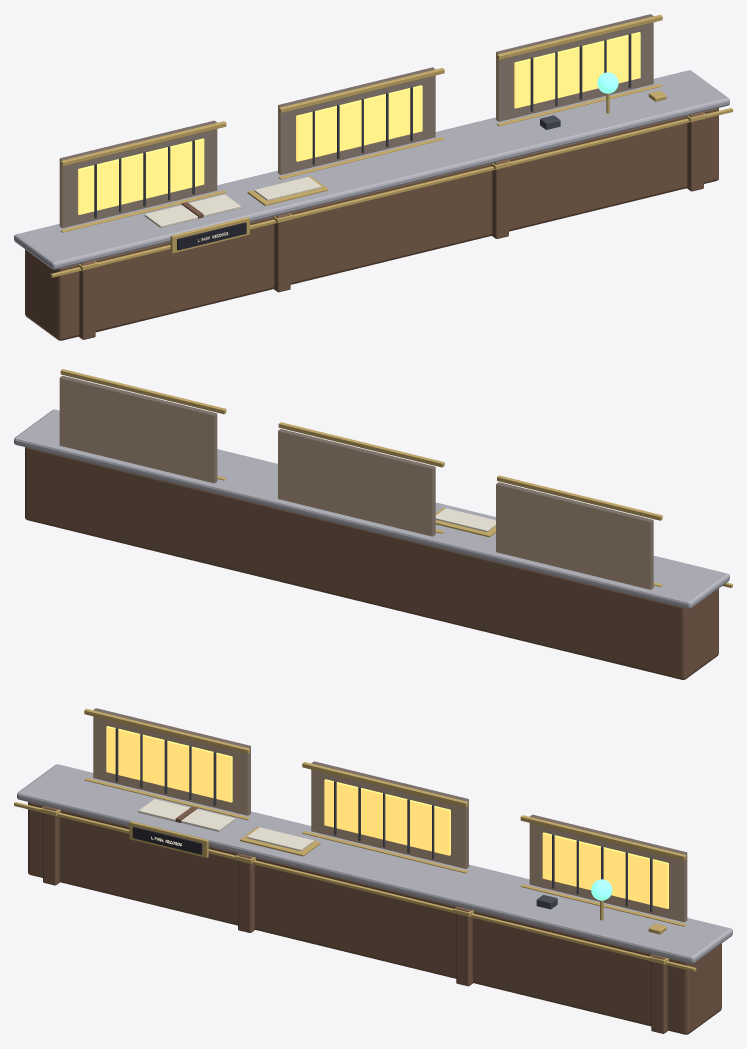
Rendered from teller-counter.glb.
The picture shows the model from 3 angles, top to bottom: view 1: azimuth 30°, elevation 25°; view 2: azimuth 150°, elevation 25°; view 3: azimuth 330°, elevation 25°; orthographic projection.
Visible parts, largest first — view 1: long dark oak teller counter body, thick marble counter slab, teller cage warm interior glow 1, teller cage warm interior glow 0, teller cage warm interior glow 2, teller cage smoked glass 0, teller cage smoked glass 1, teller cage smoked glass 2, brass toe rail across counter, carved oak counter pilaster 0, carved oak counter pilaster 1, carved oak counter pilaster 3 (+12 smaller); view 2: long dark oak teller counter body, thick marble counter slab, teller cage smoked glass 2, teller cage smoked glass 1, teller cage smoked glass 0, teller cage top rail 1, teller cage top rail 2, teller cage top rail 0, hallway log paper card; view 3: long dark oak teller counter body, thick marble counter slab, teller cage warm interior glow 0, teller cage warm interior glow 1, teller cage warm interior glow 2, teller cage smoked glass 0, teller cage smoked glass 1, teller cage smoked glass 2, brass toe rail across counter, carved oak counter pilaster 3, carved oak counter pilaster 2, carved oak counter pilaster 0 (+12 smaller).
Boxes of the visible parts, bbox=[...] form: long dark oak teller counter body: bbox=[25, 108, 718, 340]; thick marble counter slab: bbox=[14, 70, 729, 269]; teller cage warm interior glow 1: bbox=[296, 85, 422, 161]; teller cage warm interior glow 0: bbox=[78, 138, 204, 214]; teller cage warm interior glow 2: bbox=[514, 32, 640, 108]; teller cage smoked glass 0: bbox=[59, 120, 217, 228]; teller cage smoked glass 1: bbox=[278, 67, 435, 174]; teller cage smoked glass 2: bbox=[496, 14, 653, 121]; brass toe rail across counter: bbox=[50, 108, 732, 277]; carved oak counter pilaster 0: bbox=[78, 260, 95, 339]; carved oak counter pilaster 1: bbox=[274, 212, 290, 292]; carved oak counter pilaster 3: bbox=[687, 112, 703, 191]; long dark oak teller counter body: bbox=[25, 447, 718, 679]; thick marble counter slab: bbox=[14, 409, 729, 608]; teller cage smoked glass 2: bbox=[59, 375, 217, 483]; teller cage smoked glass 1: bbox=[278, 429, 435, 536]; teller cage smoked glass 0: bbox=[496, 482, 653, 589]; teller cage top rail 1: bbox=[278, 422, 444, 467]; teller cage top rail 2: bbox=[60, 369, 226, 414]; teller cage top rail 0: bbox=[497, 475, 662, 520]; hallway log paper card: bbox=[435, 508, 495, 532]; long dark oak teller counter body: bbox=[28, 802, 721, 1034]; thick marble counter slab: bbox=[17, 764, 732, 963]; teller cage warm interior glow 0: bbox=[106, 726, 232, 802]; teller cage warm interior glow 1: bbox=[324, 779, 450, 855]; teller cage warm interior glow 2: bbox=[542, 832, 668, 908]; teller cage smoked glass 0: bbox=[93, 708, 250, 815]; teller cage smoked glass 1: bbox=[311, 761, 468, 868]; teller cage smoked glass 2: bbox=[529, 814, 687, 922]; brass toe rail across counter: bbox=[14, 802, 696, 971]; carved oak counter pilaster 3: bbox=[651, 954, 668, 1033]; carved oak counter pilaster 2: bbox=[456, 906, 472, 986]; carved oak counter pilaster 0: bbox=[43, 806, 59, 885].
Size of the model in its own units: 10.3 by 2.21 by 1.19.
